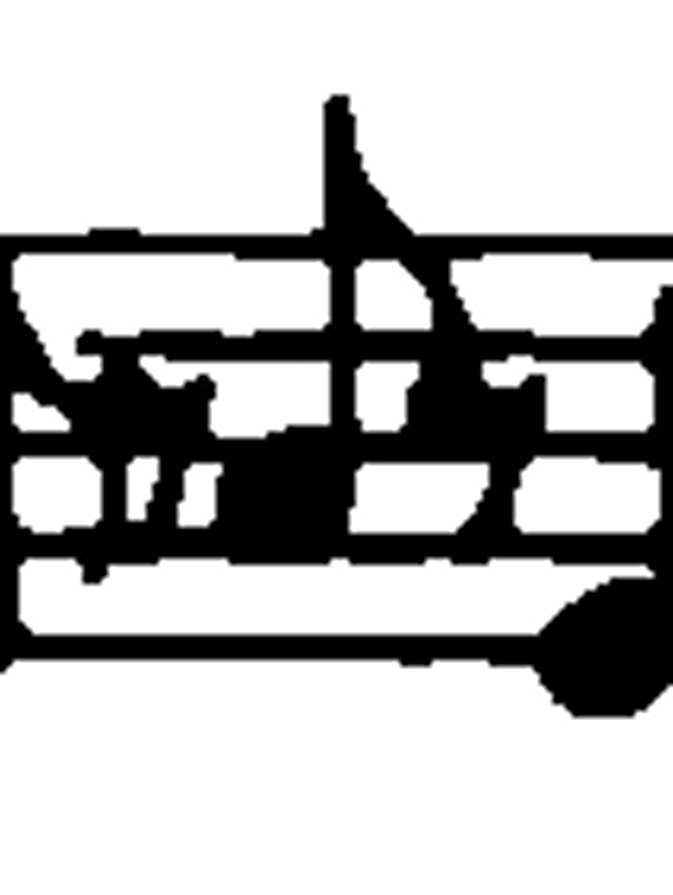beam: (4, 427, 673, 469)
noteheadBlackInSpace: (156, 470, 182, 493), (77, 330, 101, 351), (324, 255, 362, 268), (82, 562, 106, 582), (333, 374, 354, 395), (331, 356, 362, 370), (333, 275, 353, 295), (104, 465, 124, 484), (333, 368, 354, 383), (333, 267, 354, 282), (1, 553, 25, 566)
noteheadBlackOnLine: (339, 493, 354, 514)
restHBar: (70, 326, 673, 366), (74, 529, 672, 565), (1, 633, 650, 664), (229, 427, 663, 463), (77, 327, 520, 362), (232, 230, 673, 265)
